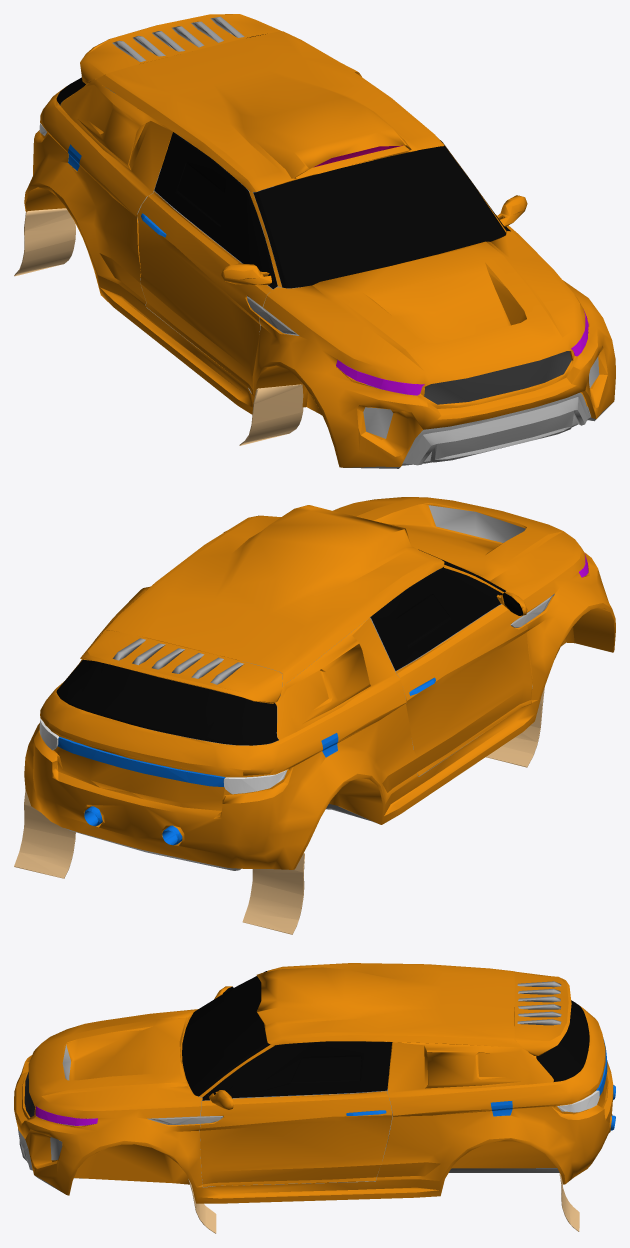
File: SportCar_3_Optimal.fbx
3 renders of one model, top to bottom at view 1: azimuth 30°, elevation 25°; view 2: azimuth 150°, elevation 25°; view 3: azimuth 270°, elevation 25°, orthographic. The views are drawn at different scales.
Parts seen in each view (by area): view 1: Body1; view 2: Body1; view 3: Body1.
Part boxes in pixels (x1,y1,x2,y2): Body1: (14, 14, 615, 468); Body1: (14, 497, 615, 934); Body1: (14, 963, 615, 1233).
Size of the model in its own units: 402 by 309 by 873.
